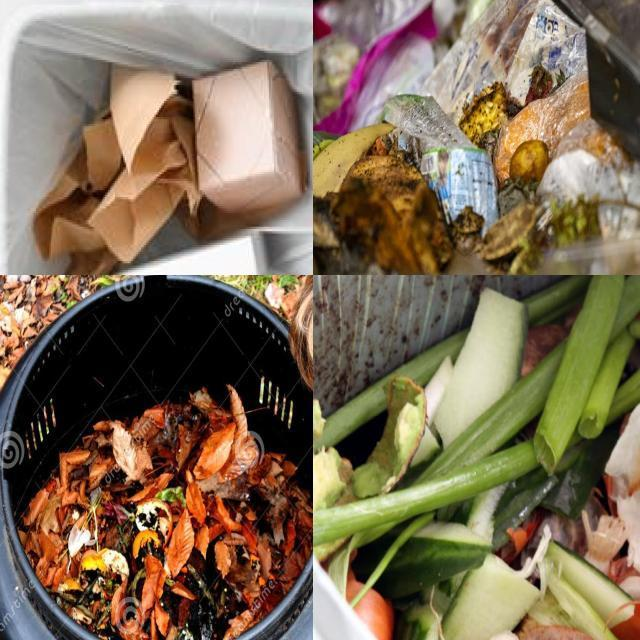Garbage: (313, 275, 640, 640), (313, 0, 640, 275), (18, 380, 313, 640), (26, 41, 313, 275)
Plastic_Bag: (379, 0, 587, 230), (313, 0, 456, 133)
